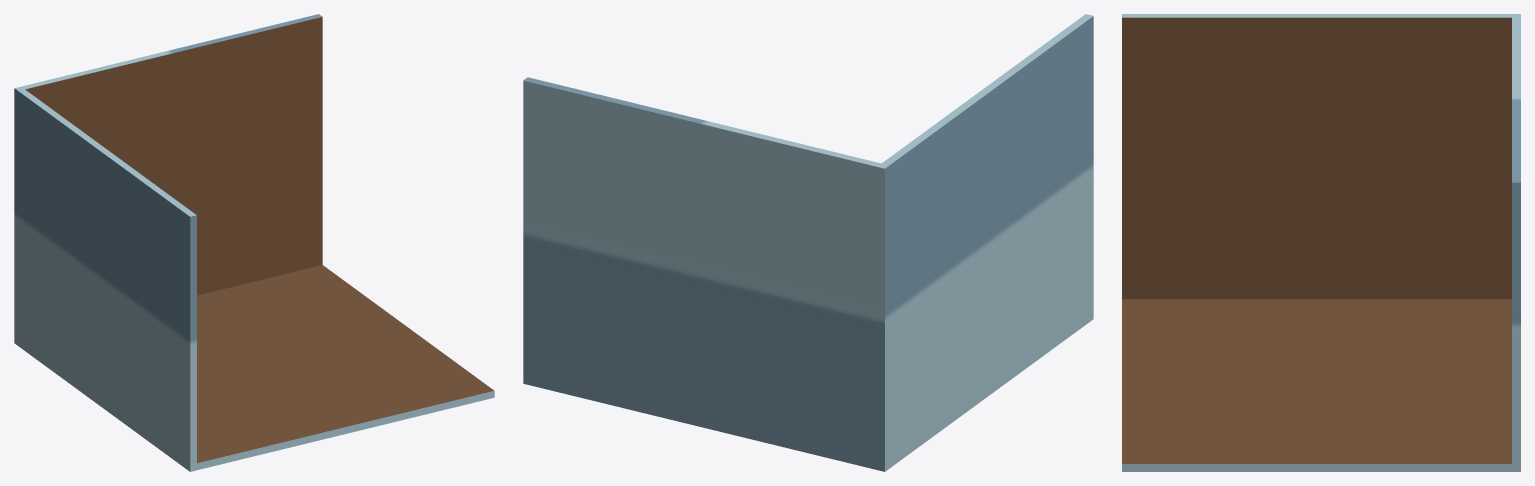
File: Bathroom2_base.fbx
3 views of the same model, side by side, from view 1: azimuth 30°, elevation 25°; view 2: azimuth 150°, elevation 25°; view 3: azimuth 270°, elevation 25° (orthographic). The views are drawn at different scales.
Visible parts, largest first — view 1: Bathroom2_base; view 2: Bathroom2_base; view 3: Bathroom2_base.
Boxes of the visible parts, box(x1,y1,x2,y2) form: Bathroom2_base: box(14, 14, 494, 471); Bathroom2_base: box(523, 14, 1093, 471); Bathroom2_base: box(1122, 14, 1520, 471).
Bounding box in the file's own units: 500 × 401 × 500.
